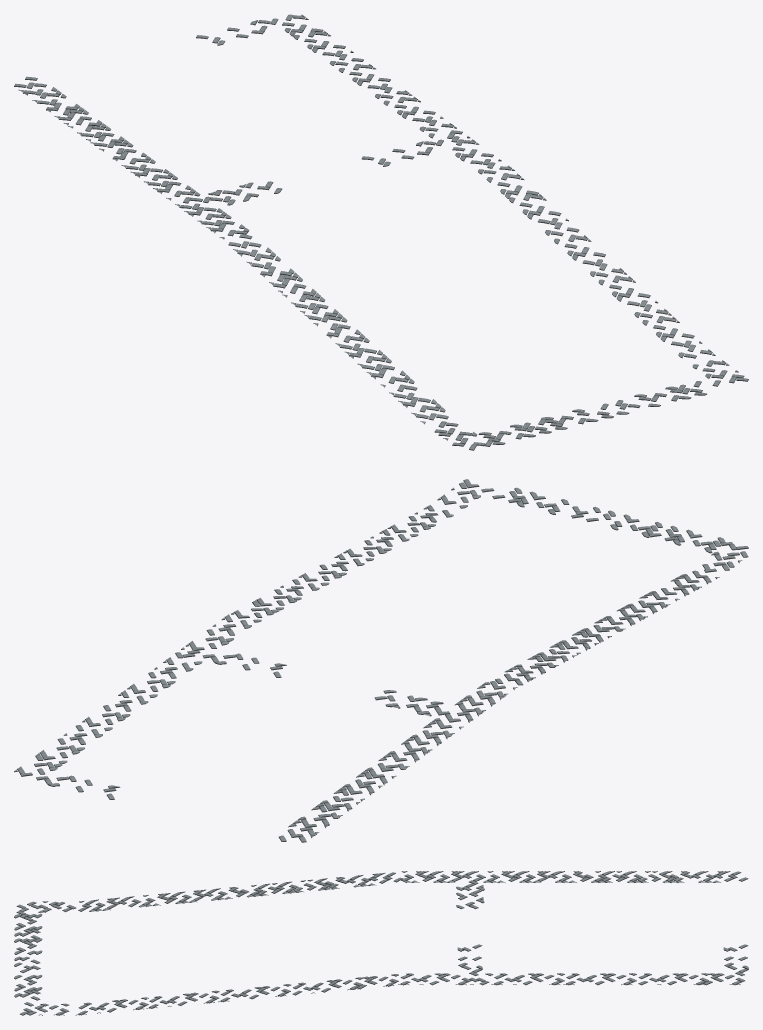
The model's file is Jalan Bata.fbx.
The picture shows the model from 3 angles, top to bottom: view 1: azimuth 30°, elevation 25°; view 2: azimuth 150°, elevation 25°; view 3: azimuth 270°, elevation 25°; orthographic projection. The views are drawn at different scales.
Visible parts, largest first — view 1: Jalan Bata; view 2: Jalan Bata; view 3: Jalan Bata.
Boxes of the visible parts, x1=… form: Jalan Bata: x1=14, y1=14, x2=748, y2=450; Jalan Bata: x1=14, y1=479, x2=748, y2=842; Jalan Bata: x1=14, y1=871, x2=748, y2=1015.
Size of the model in its own units: 116 by 15 by 317.
